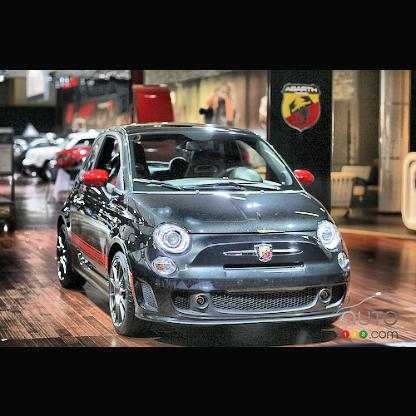FIAT 500 Abarth 2012: (60, 124, 354, 343)
